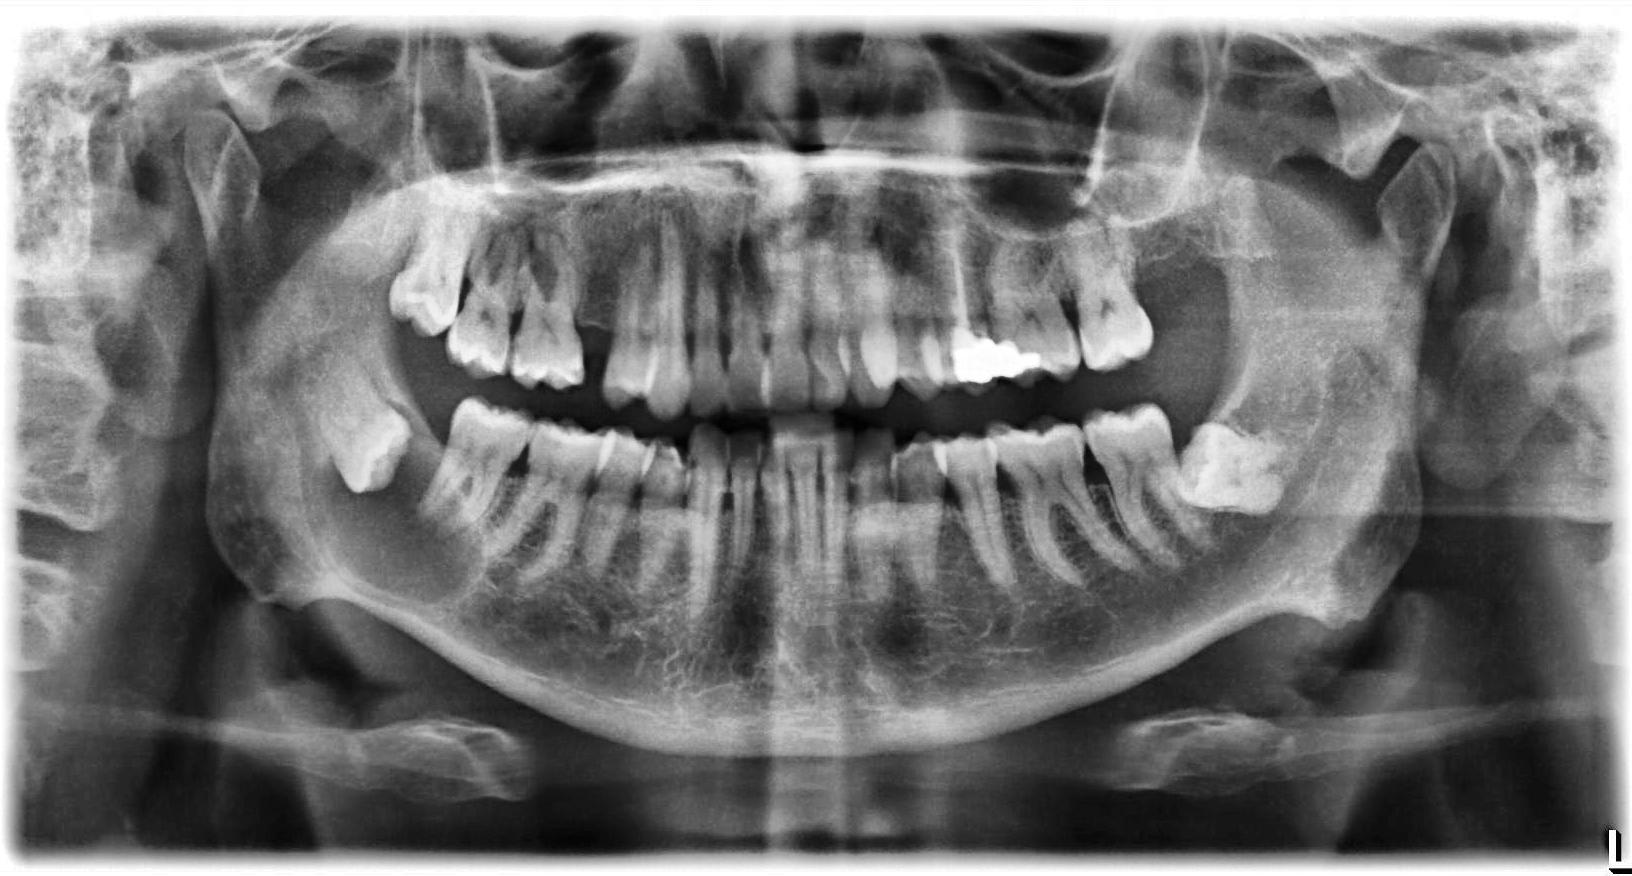dentigeroz: (305, 398, 488, 614)
